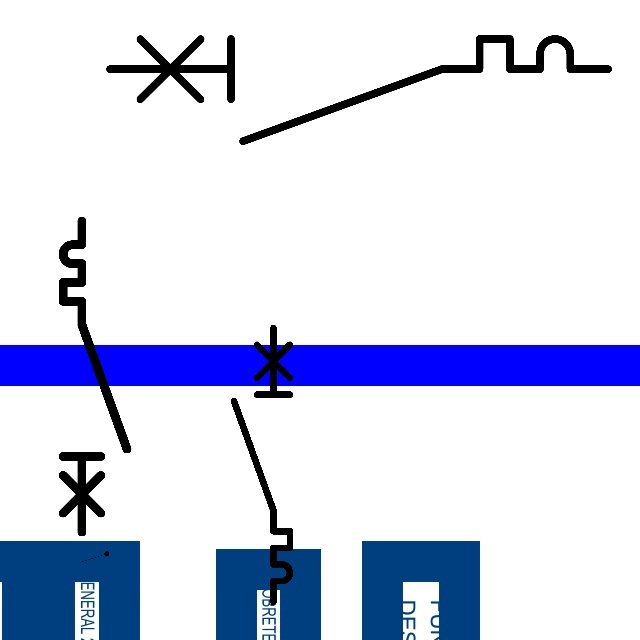interruptor_termomagnetico: (97, 26, 621, 154), (55, 213, 135, 540), (227, 321, 297, 609)
